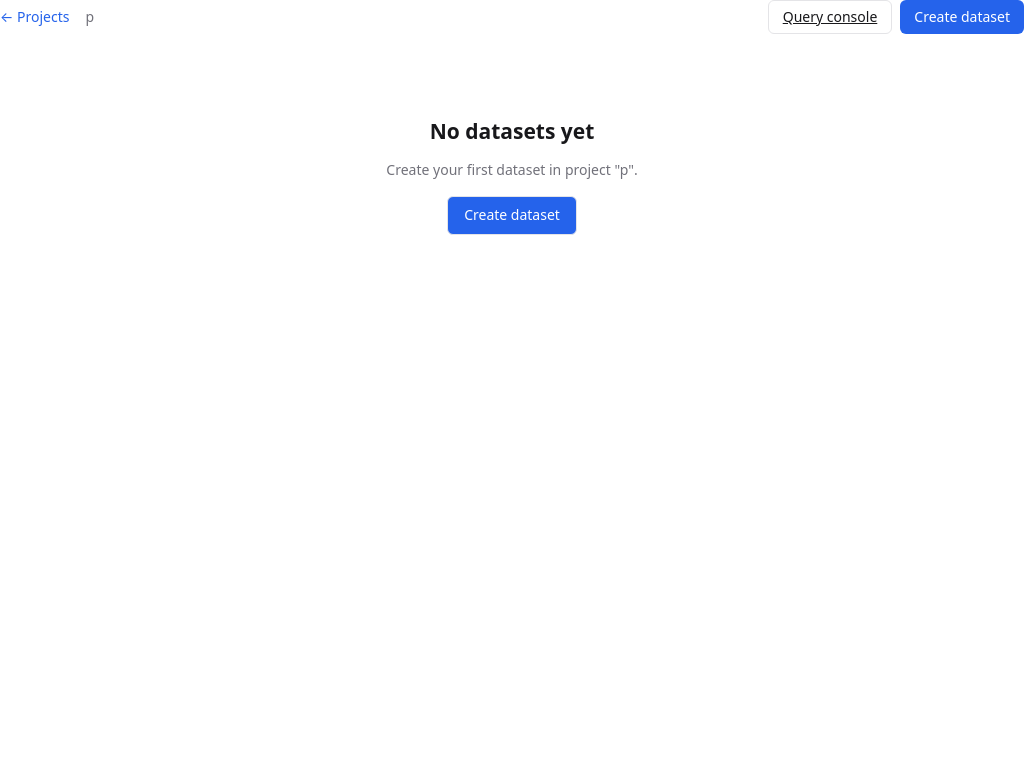
Scenario: DatasetList › surfaces API errors on create
Click the button "Create dataset" next to "Query console".
click(962, 17)  # box [900,0,1023,34]
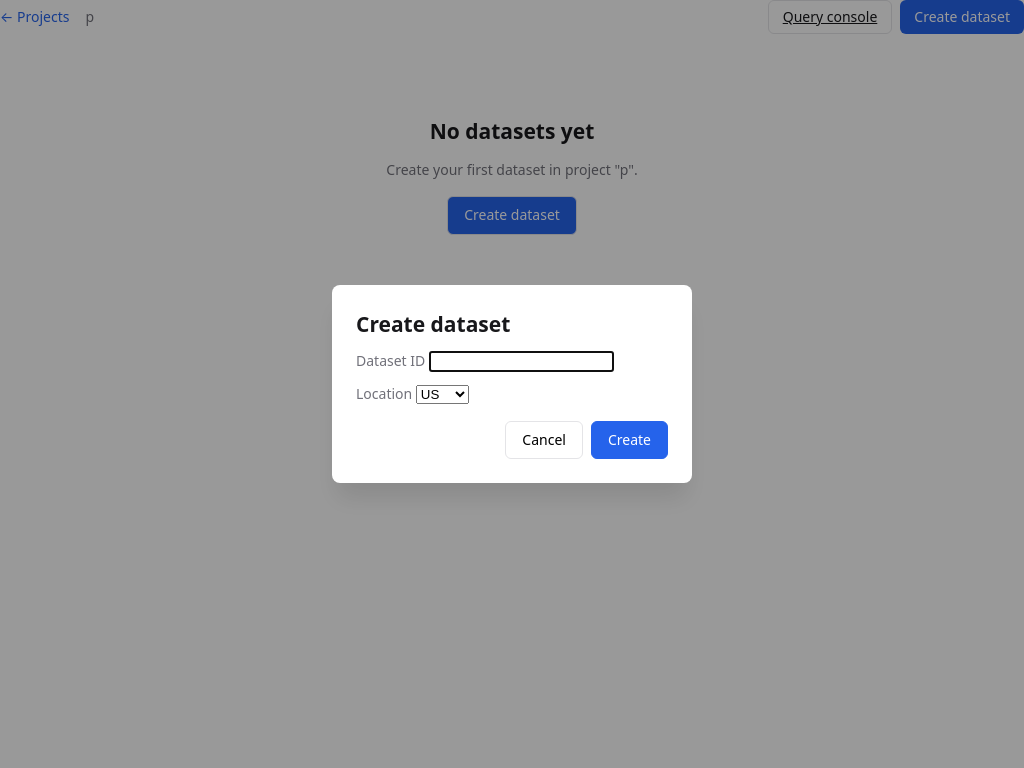
Type "dup" into the field labelled "Dataset ID".
click(521, 362); type("dup")  # box [429,351,614,372]
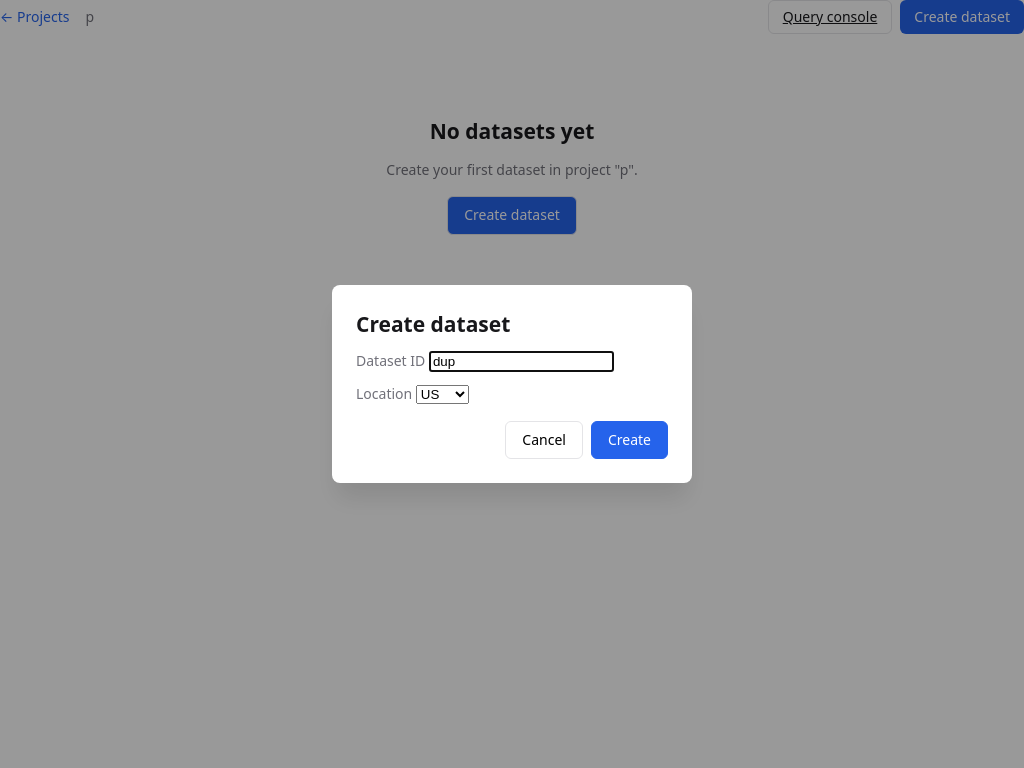
Click the button "Create".
click(629, 440)  # box [591,421,668,459]
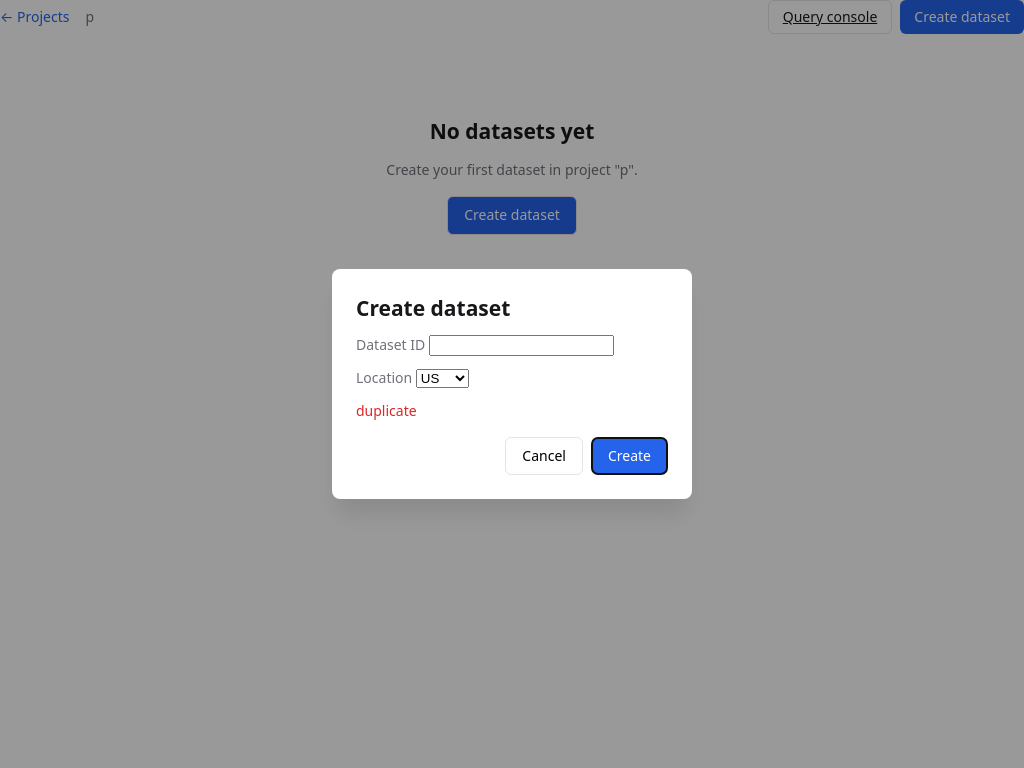
Check: the text "duplicate" is shown, box [356,401,417,420]
